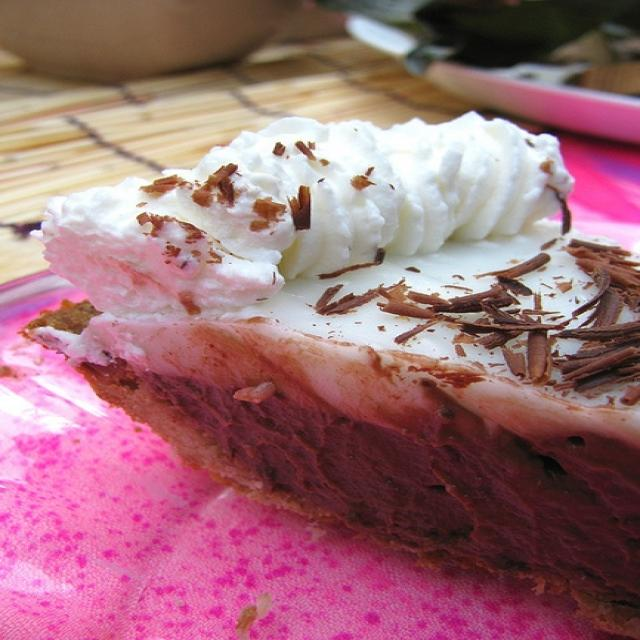蛋糕甜品: (46, 61, 621, 559)
